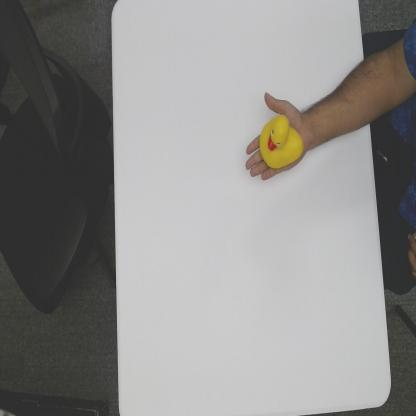Arm: (310, 64, 370, 152)
Duck: (260, 113, 305, 169)
Hand: (245, 86, 310, 181)
